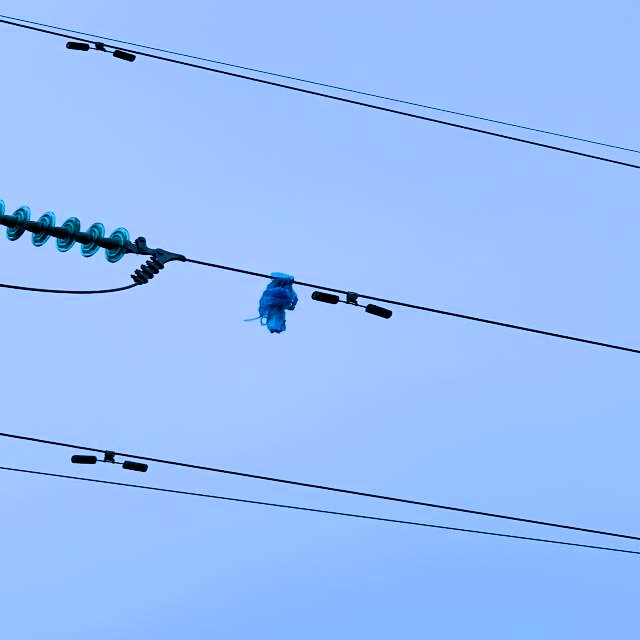wire foreign body: (240, 260, 309, 346)
